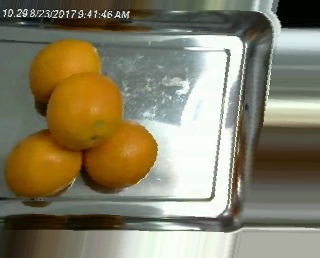Orange: (46, 71, 124, 151), (84, 119, 159, 190), (6, 129, 82, 197), (28, 38, 101, 108)
